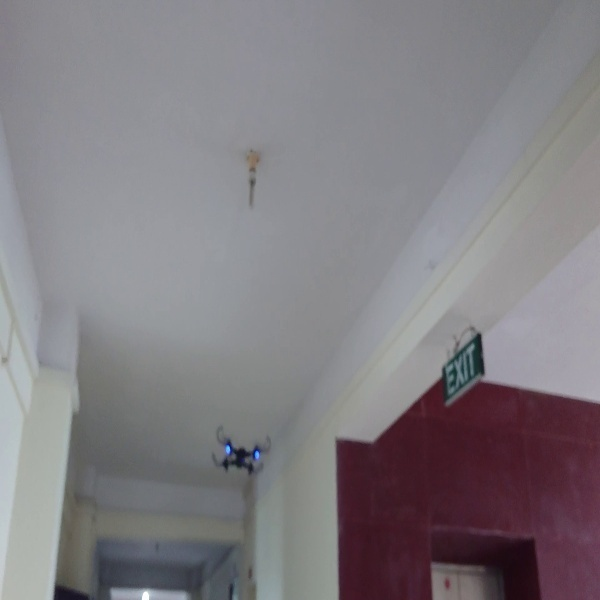drone: (209, 425, 274, 483)
